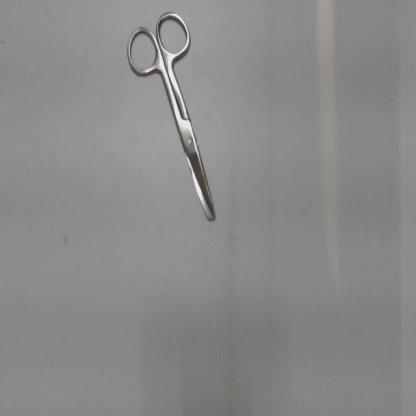Dressing Scissors: (118, 1, 223, 232)
